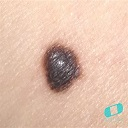Melanoma: (43, 44, 80, 89)
